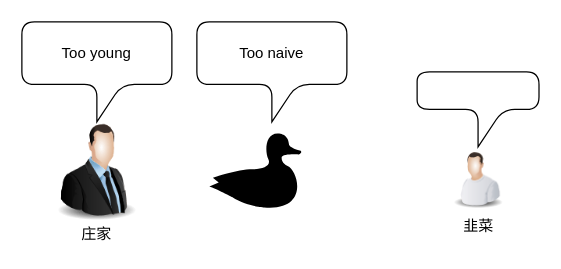
The diagram is 561 pixels wide and 269 high, and some of its shapes have lost their labels. Here are the shapes that lost their labels. From the top down, the centre of each, then its label:
At point 477,109: "I wanna be rich".
At point 259,171: "黑天鹅".
